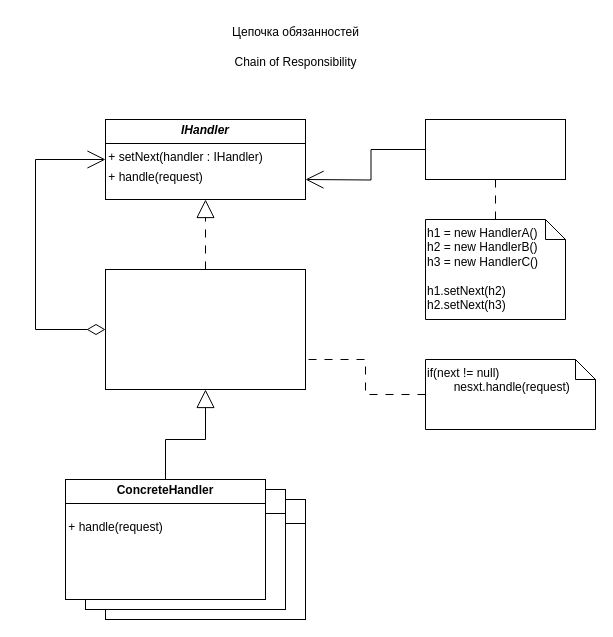
This 613x637 diagram has some shape labels left out. The box of each missing label's shape, as (x1, y1, x2, y2) in pixels:
BaseHandler # next : IHandler + setNext(handler : IHandler) + handle(request): (104, 268, 306, 390)
Client: (424, 118, 566, 180)
